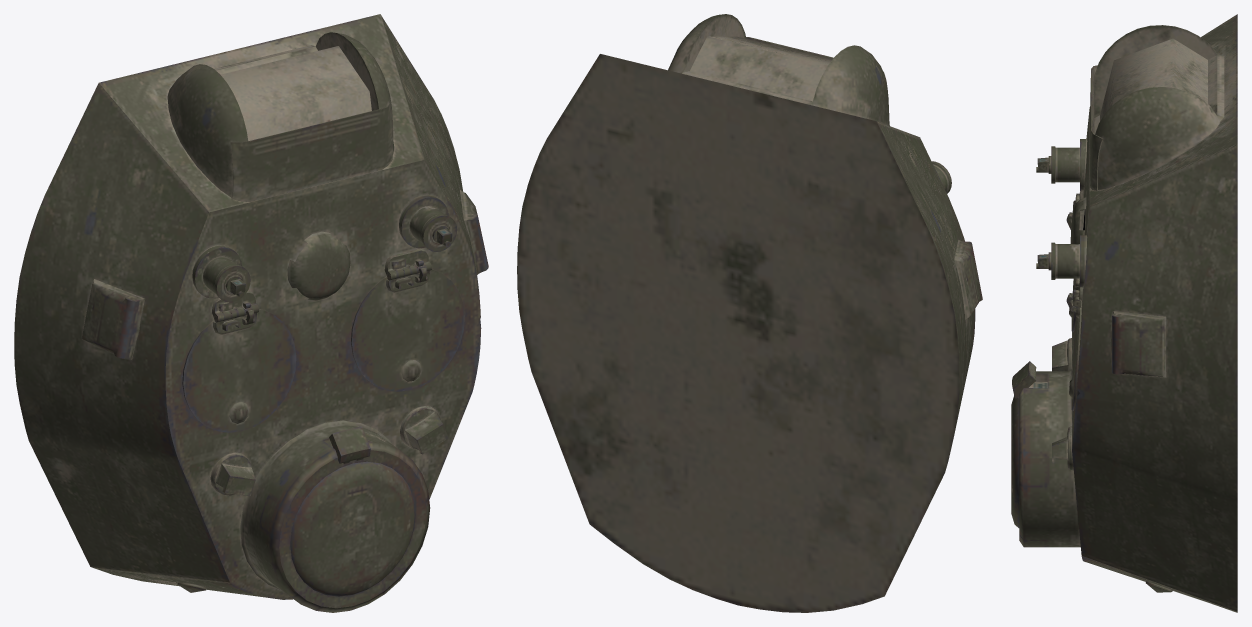
The model's file is Turret_01.glb.
3 views of the same model, side by side, from view 1: azimuth 30°, elevation 25°; view 2: azimuth 150°, elevation 25°; view 3: azimuth 270°, elevation 25° (orthographic). The views are drawn at different scales.
Parts seen in each view (by area): view 1: set_0_group_0; view 2: set_0_group_0; view 3: set_0_group_0.
Part boxes in pixels (bbox=[...]): set_0_group_0: bbox=[14, 14, 488, 612]; set_0_group_0: bbox=[517, 14, 982, 612]; set_0_group_0: bbox=[1011, 14, 1237, 612].
Bounding box in the file's own units: 2.04 × 2.39 × 0.9268.
Materials: 1 (1 with a texture image).
